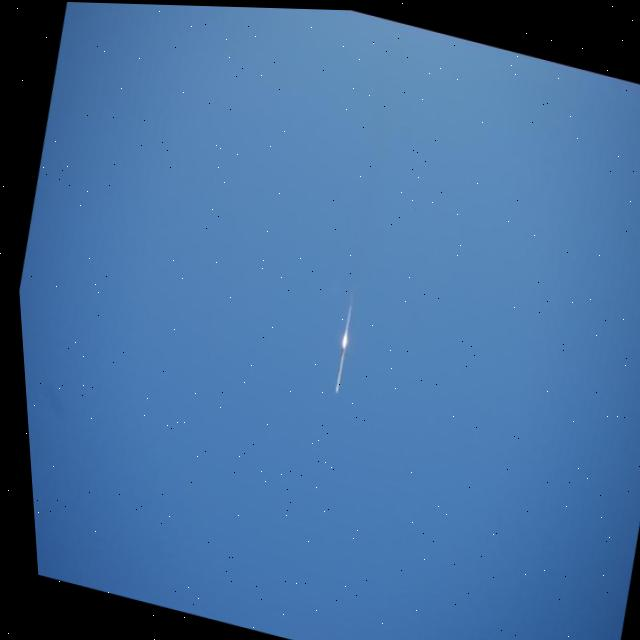missile: (311, 334, 354, 398)
